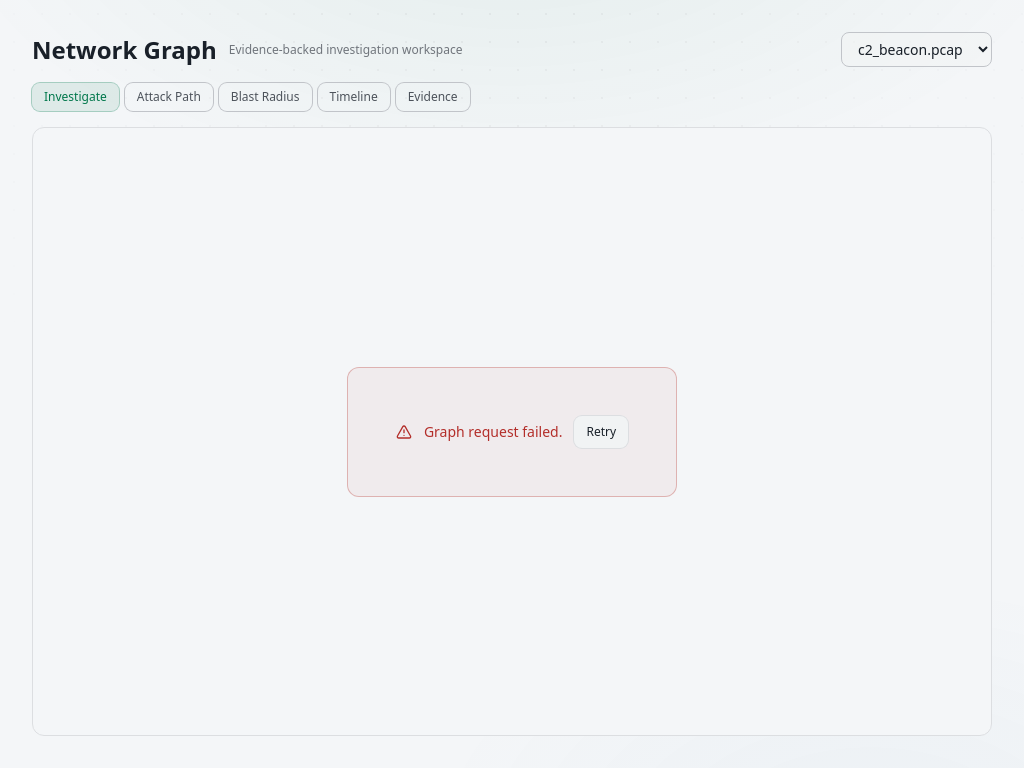
Test case: GraphPage — investigation workspace › switches to Evidence mode and renders the evidence chain
What coordinates should you click on to do the following:
click the tab "Evidence"
I would click on:
 (433, 97)
Its box is x1=396 y1=83 x2=470 y2=111.
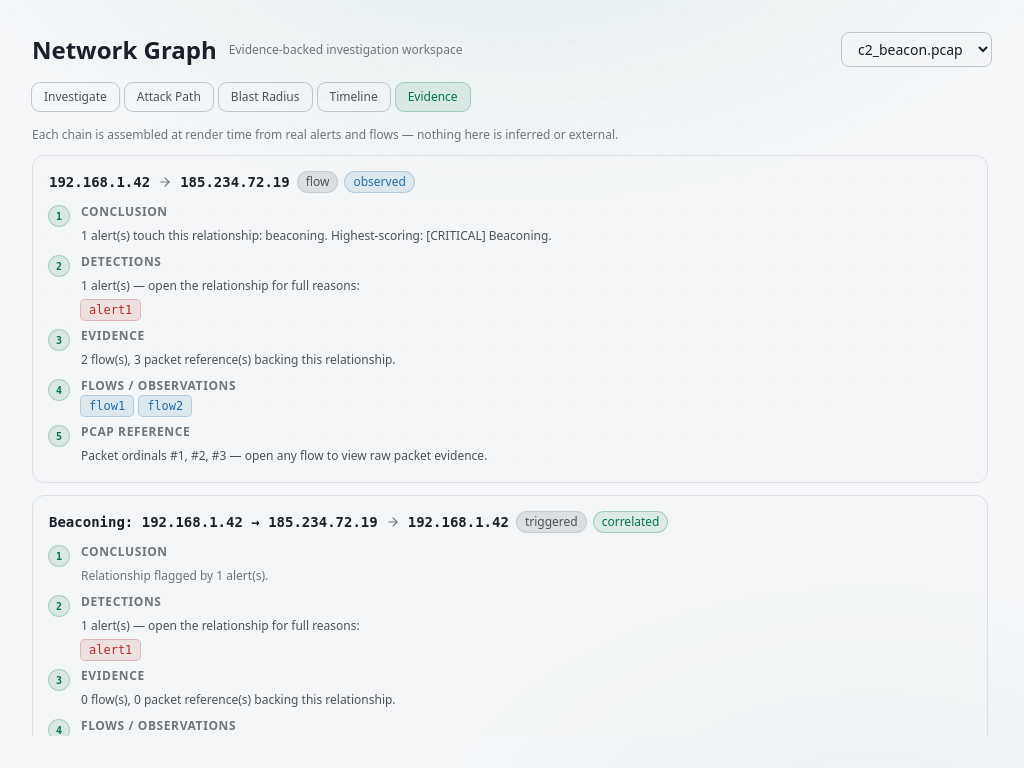
Now the link "flow1" is shown, box x1=81 y1=396 x2=133 y2=416
